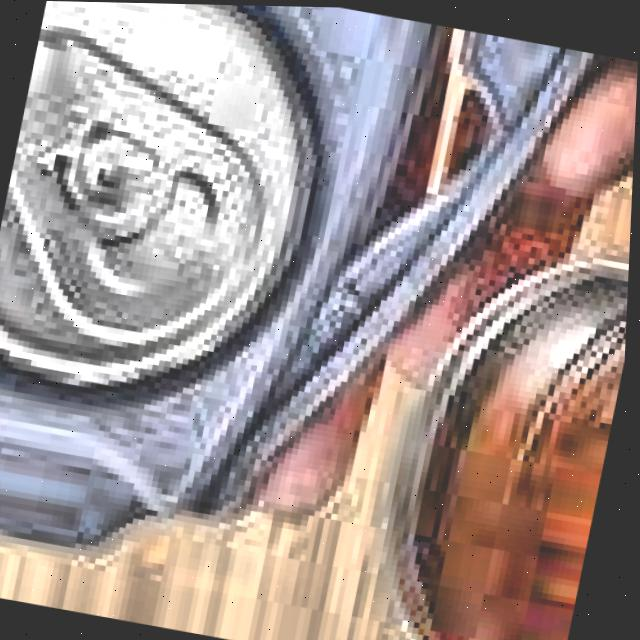metal: (338, 171, 634, 640)
